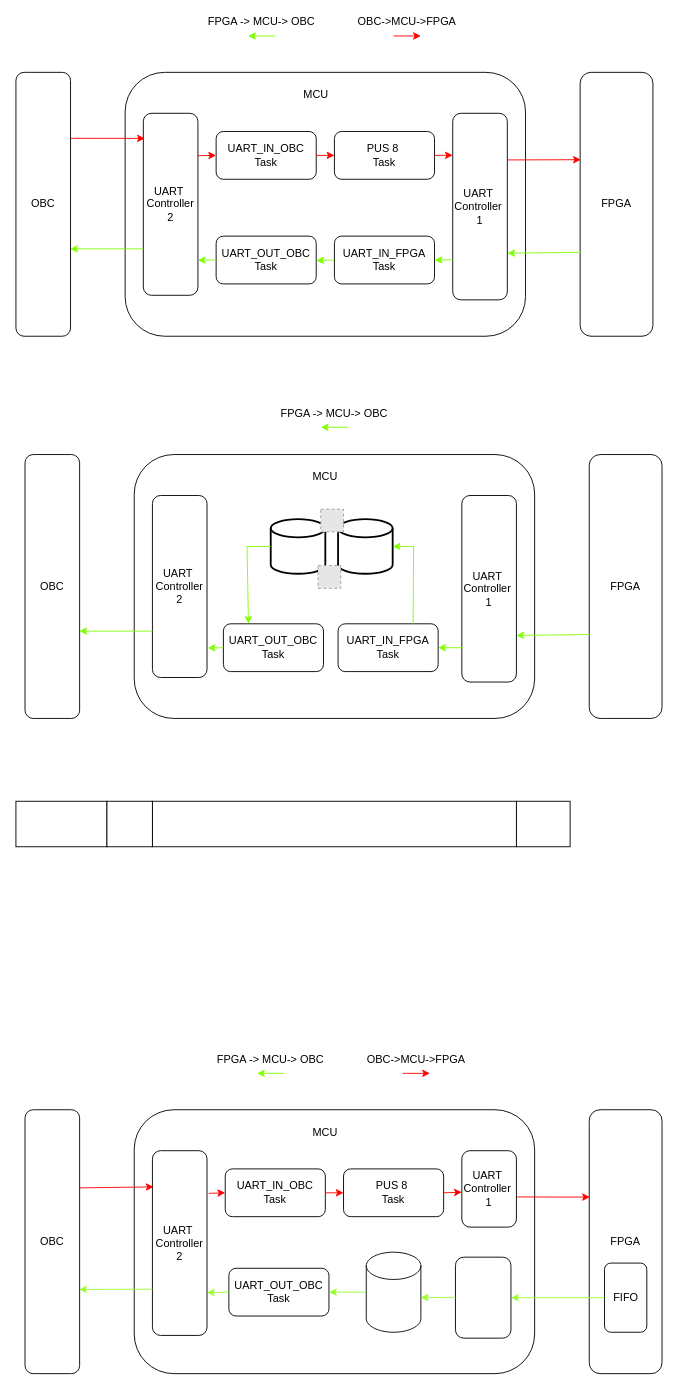
This 678x1390 diagram has some shape labels left out. Grey dashed boxes stand in for pictures. The centre of each missing label's shape, as x and y in pixels:
"Buffer 1" belongs at (297,546).
"Buffer 2" belongs at (365,546).
"FMC" belongs at (483,1297).
"Measurement Data 8 bytes" belongs at (334,823).
"Msg ID 1 byte" belongs at (129,823).
"Postamble 1 byte" belongs at (543,823).
"Preamble 2 bytes" belongs at (61,823).
"Sweep Bias Buffer" belongs at (393,1291).
